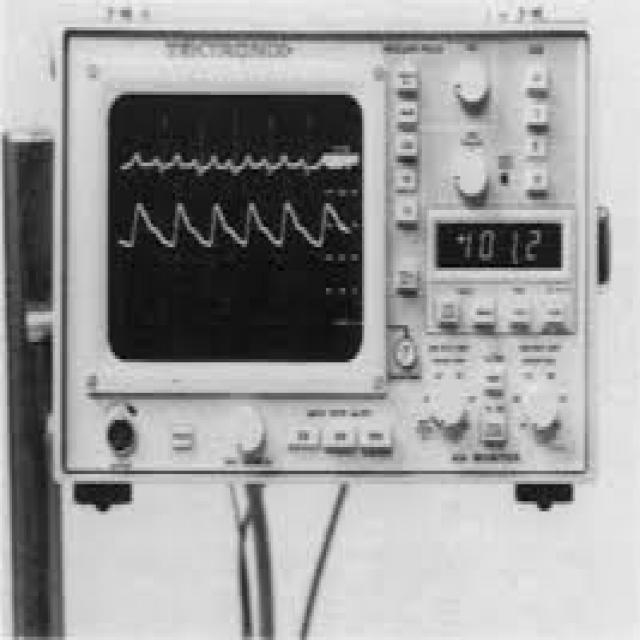cardiac_monitor: (66, 31, 604, 502)
